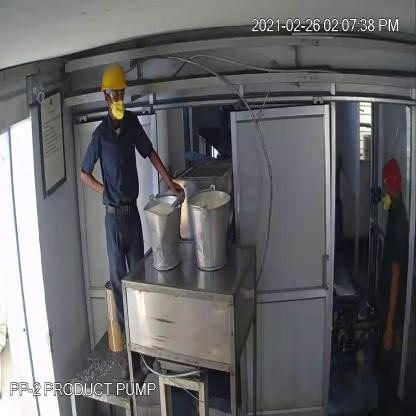helmet: (97, 58, 131, 96)
